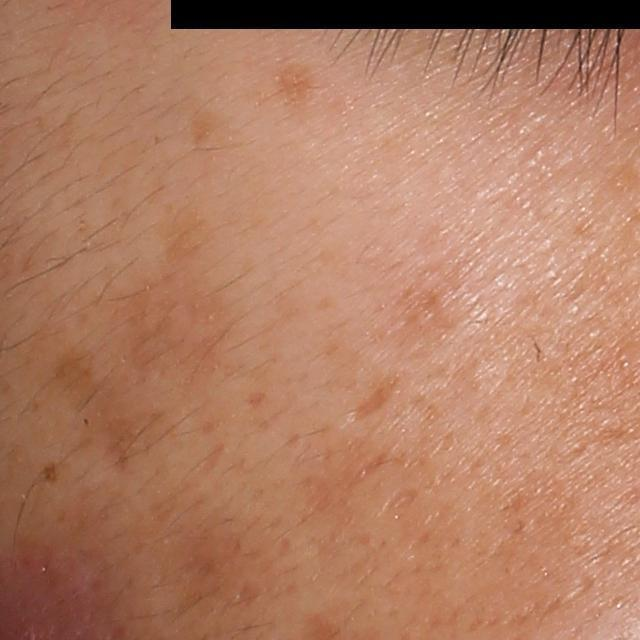atrophic_scar: (341, 382, 393, 427), (380, 487, 419, 513)
